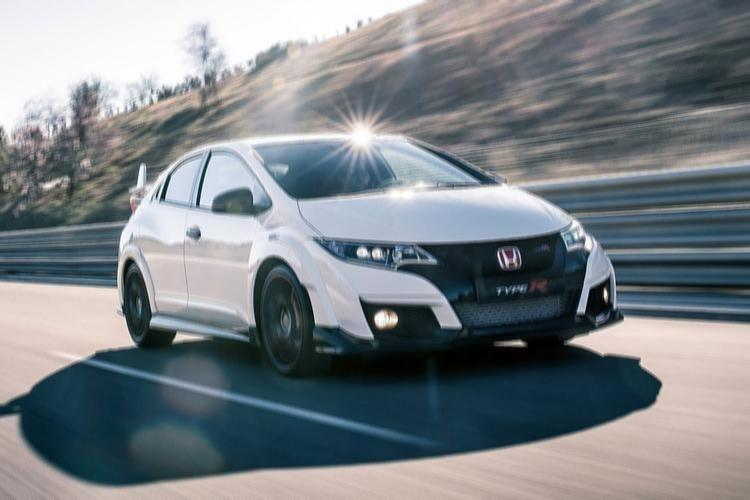Car hood: (296, 179, 572, 249)
Driver-s door - -F-R-: (176, 135, 280, 350)
Fender - -F-R-: (242, 190, 336, 354)
Front bumper: (298, 237, 636, 357)
Headlight - -L-: (559, 213, 593, 256)
Headlight - -R-: (313, 237, 442, 271)
Passenger-s door - -R-R-: (135, 138, 208, 345)
Side bumper - -R-: (143, 309, 262, 353)
Side mirror - -R-: (208, 186, 266, 217)
